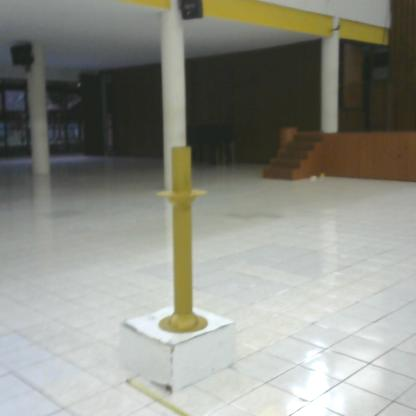pole: (149, 143, 214, 345)
